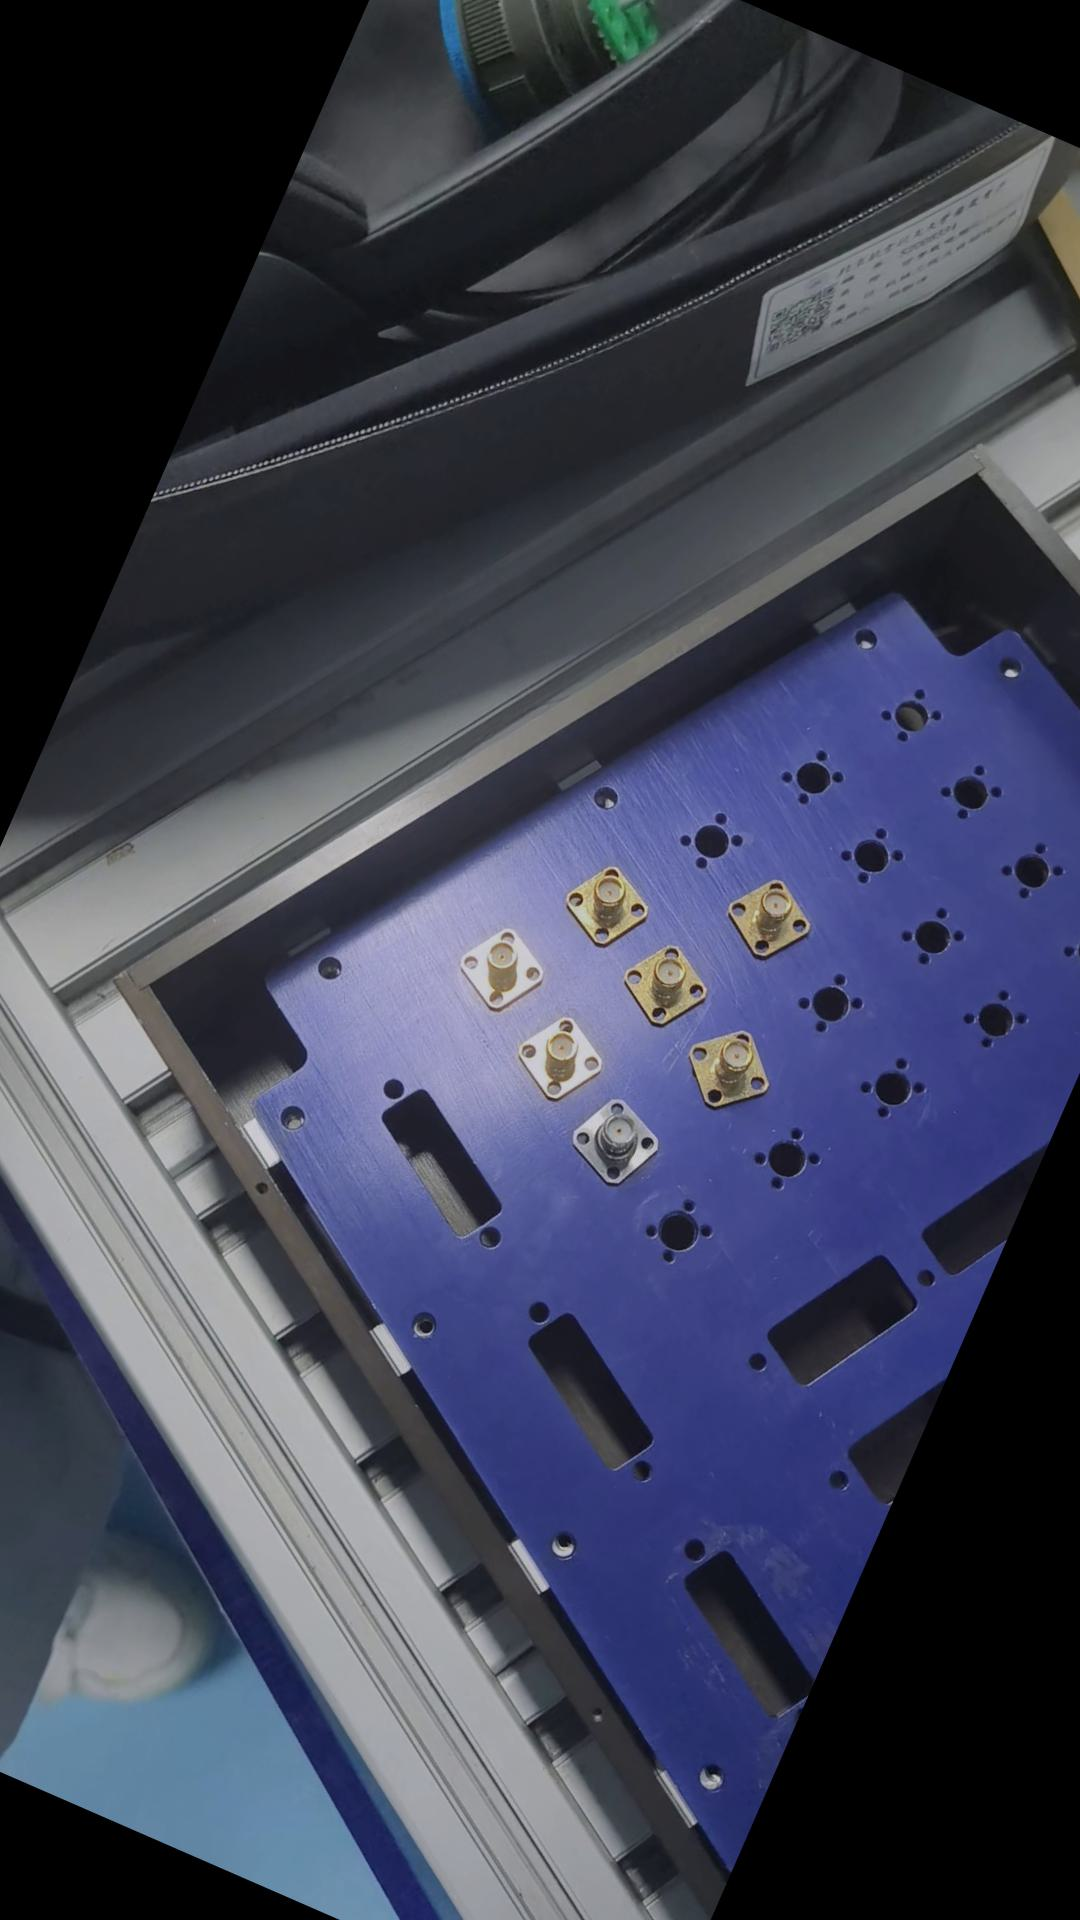SMA: (559, 1084, 674, 1203), (676, 1015, 791, 1127), (617, 928, 727, 1042), (513, 1002, 621, 1116), (715, 866, 825, 975), (450, 914, 556, 1025), (558, 851, 665, 960)
